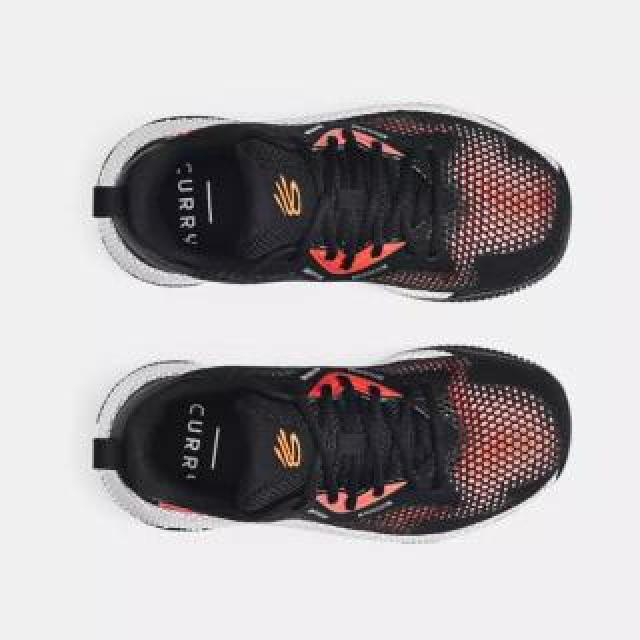shoe: (87, 338, 579, 552), (93, 100, 580, 306), (91, 102, 573, 304), (91, 344, 571, 542)
